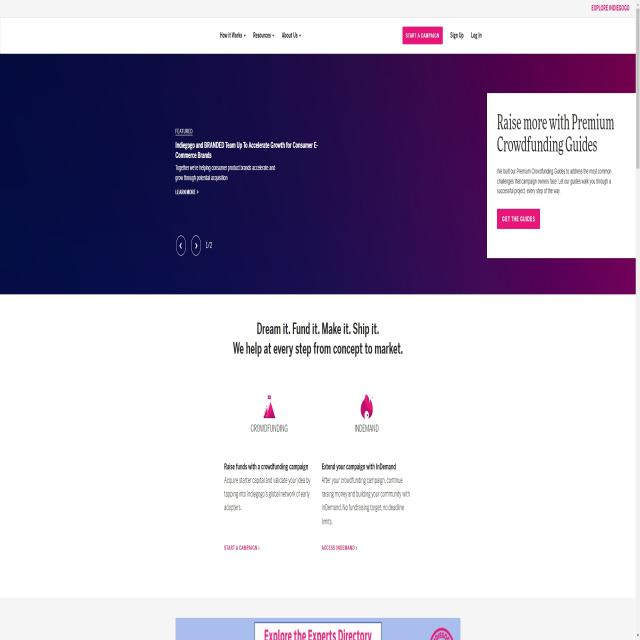control-bar: (168, 220, 221, 268)
menu-bar: (398, 19, 485, 45)
tab-bar: (218, 25, 304, 47)
